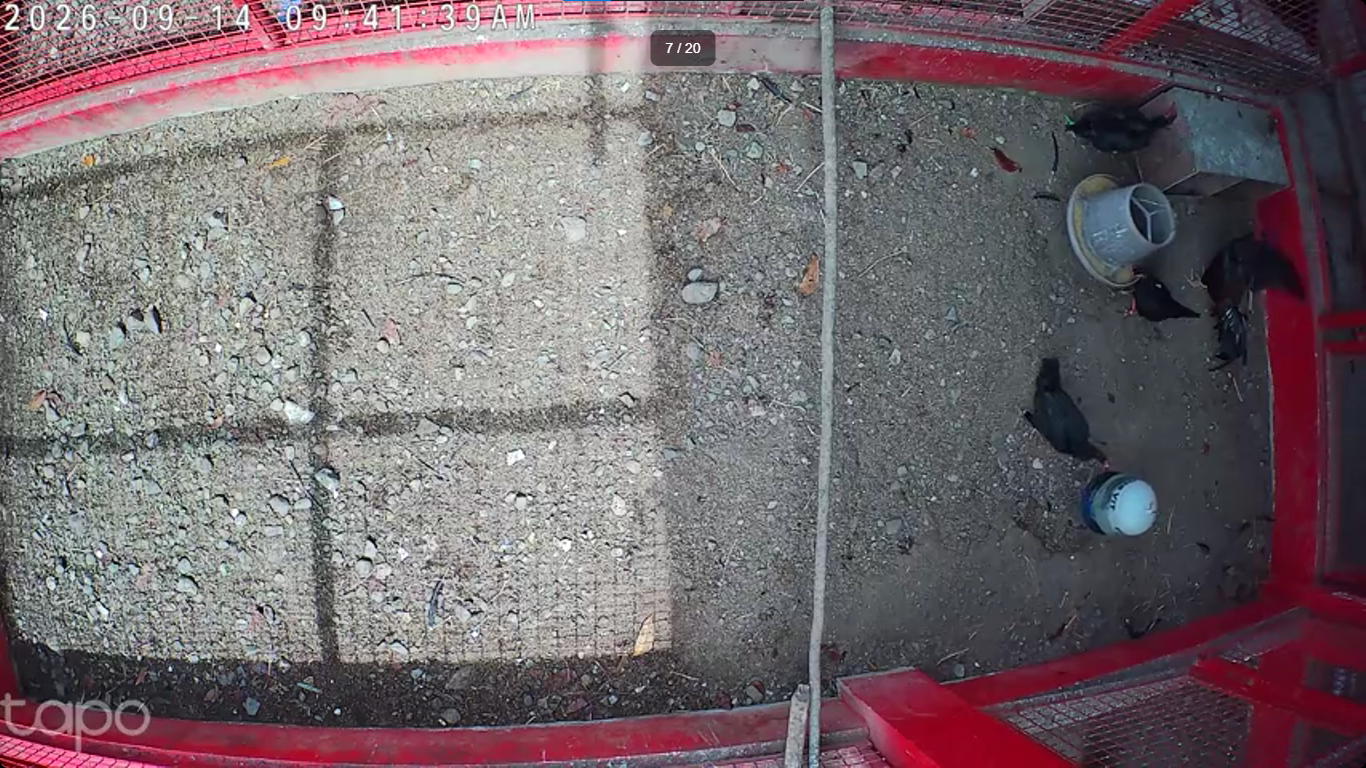Chicken: (1014, 354, 1110, 474), (1059, 99, 1181, 158), (1116, 264, 1202, 325)
Leg_Band_Green: (1063, 113, 1076, 126)
Leg_Band_Pink: (1128, 296, 1138, 316)
